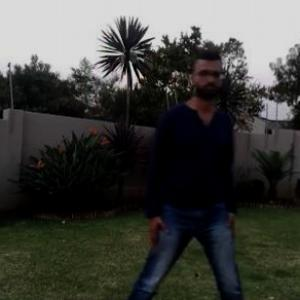follow: (149, 39, 248, 299)
